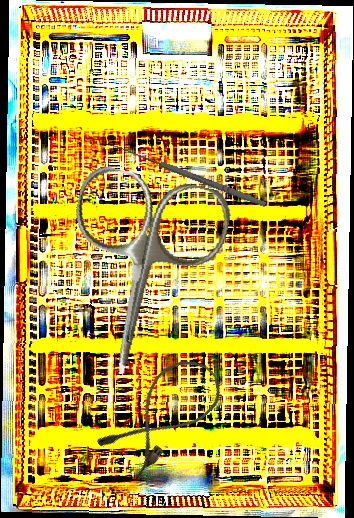Cannula: (92, 346, 232, 484)
Hook Surgical: (109, 141, 268, 214)
Iris Scissors: (44, 162, 236, 390)
